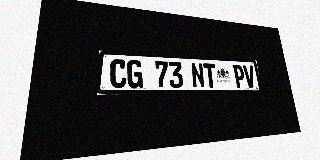3: (168, 62, 183, 88)
7: (154, 61, 169, 88)
C: (110, 59, 126, 88)
G: (127, 60, 143, 88)
N: (191, 63, 205, 88)
P: (232, 65, 246, 88)
T: (203, 63, 217, 88)
V: (243, 65, 256, 88)
